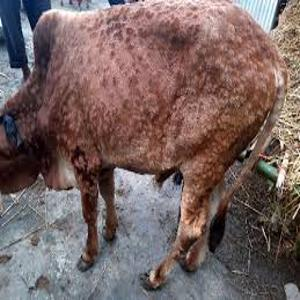lumpy skin diesease: (0, 0, 289, 290)
